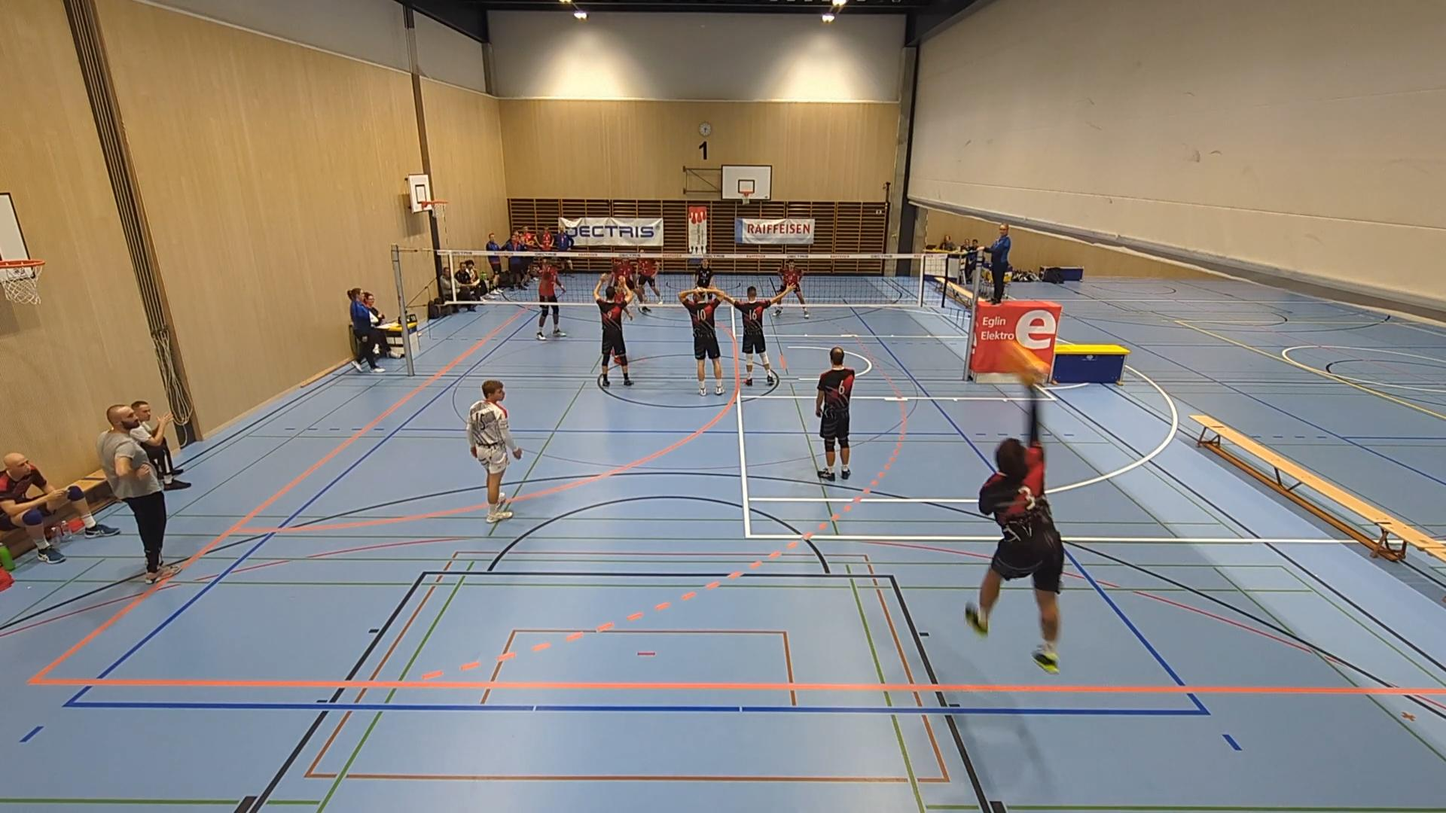battuta: (966, 364, 1061, 673)
